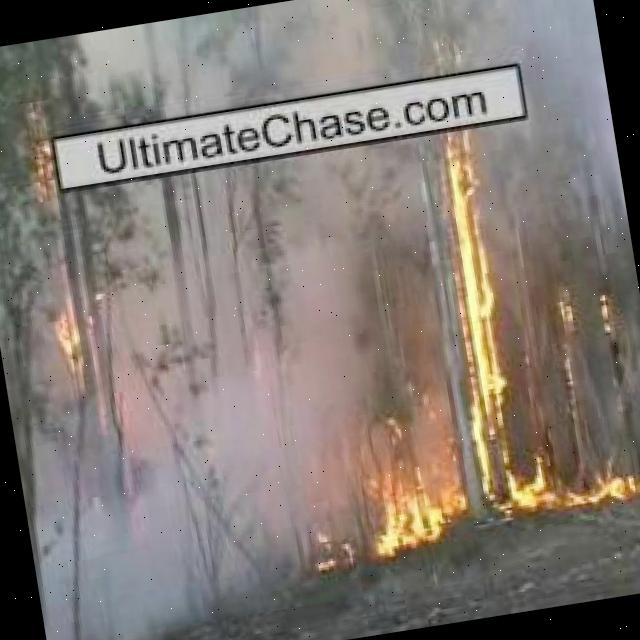fire: (338, 423, 640, 560), (430, 128, 520, 450), (19, 120, 72, 224), (47, 296, 101, 382), (548, 288, 586, 346), (592, 278, 618, 341)
